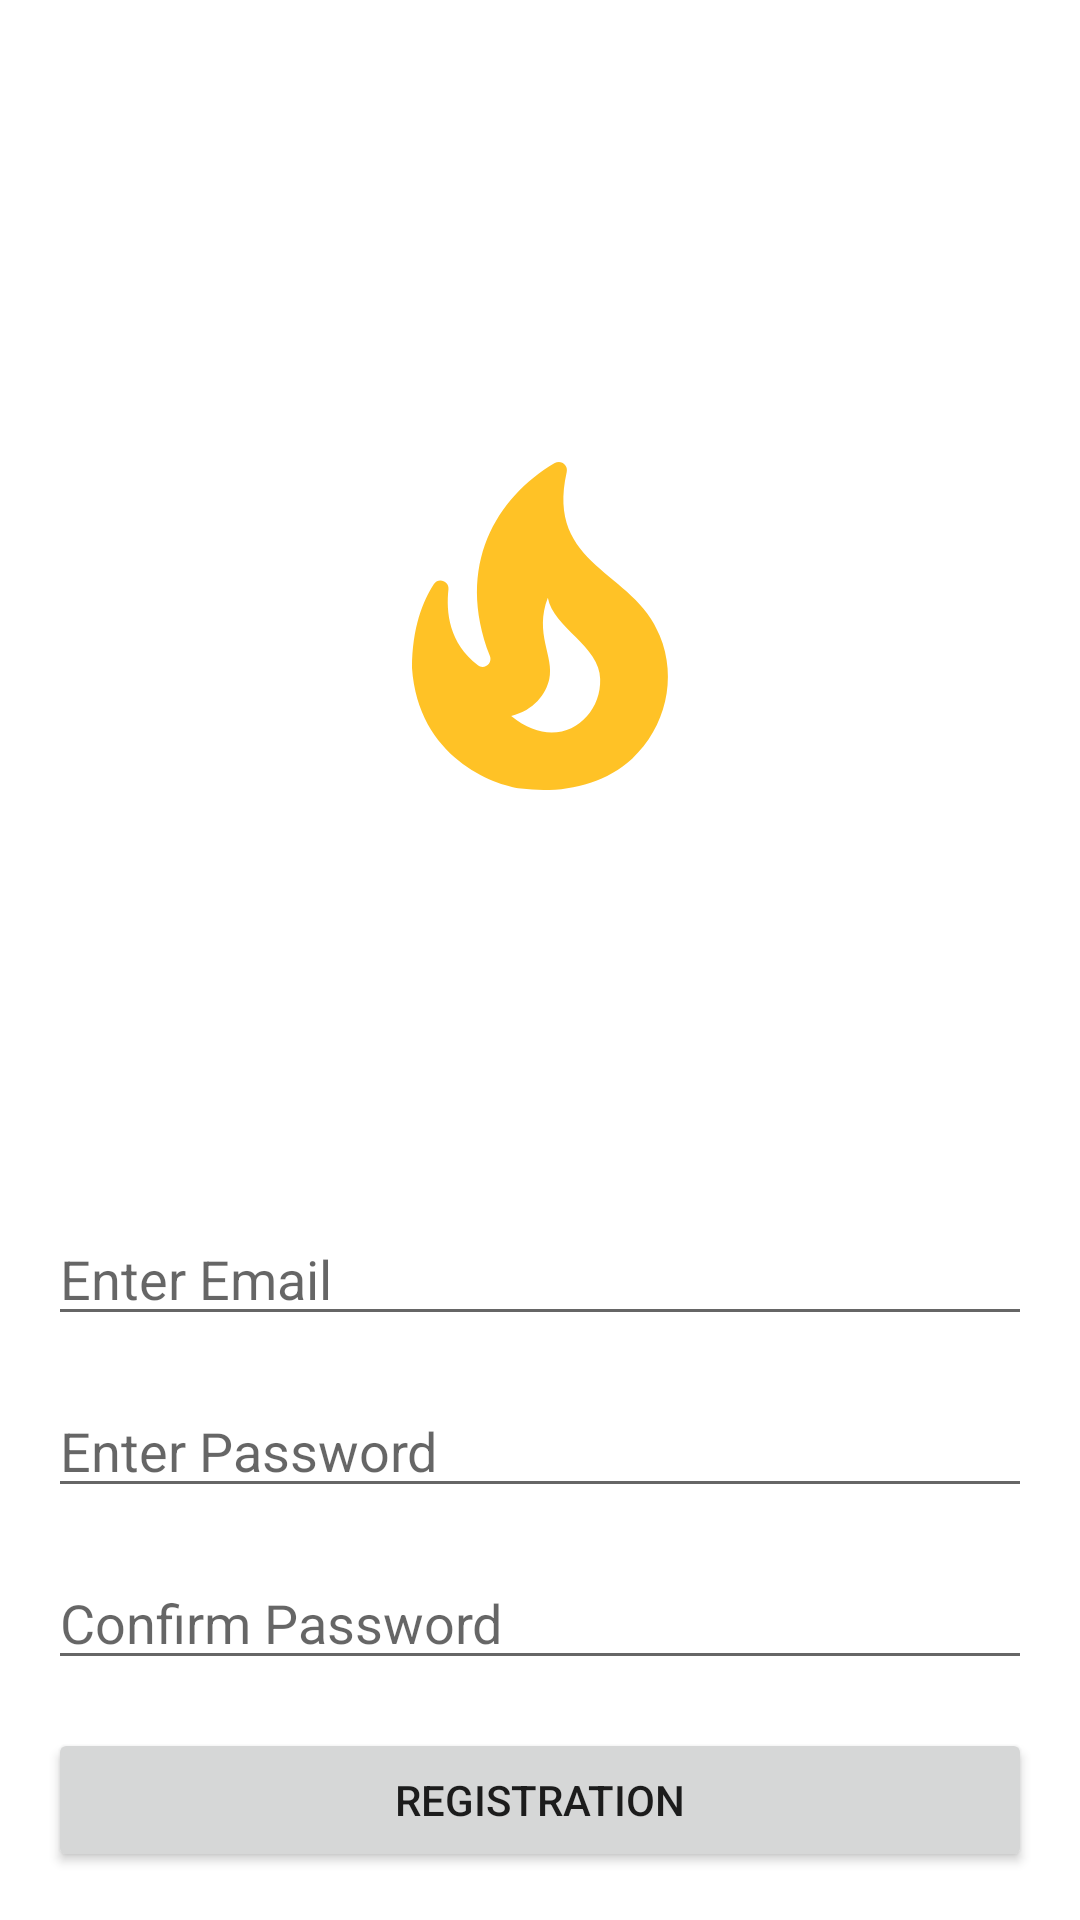

Icons on this 1080 × 1920 Android screen, each with the point to tap as (x=x, y=y):
local fire department: (x=540, y=626)
